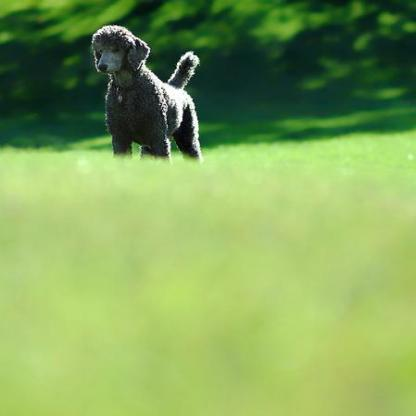standard_poodle: (84, 23, 200, 158)
